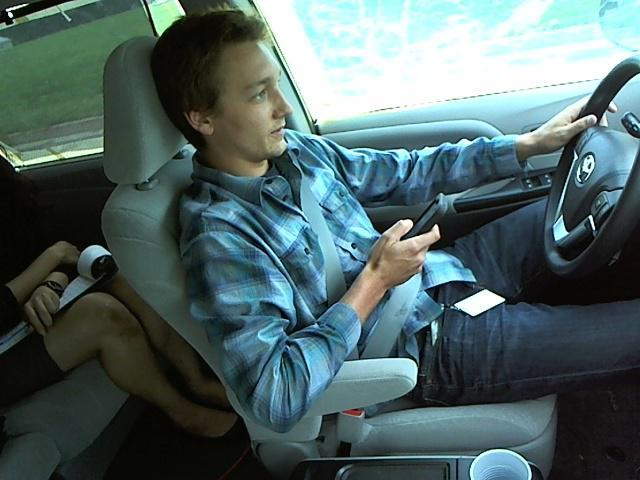PhoneUse: (395, 182, 459, 256)
